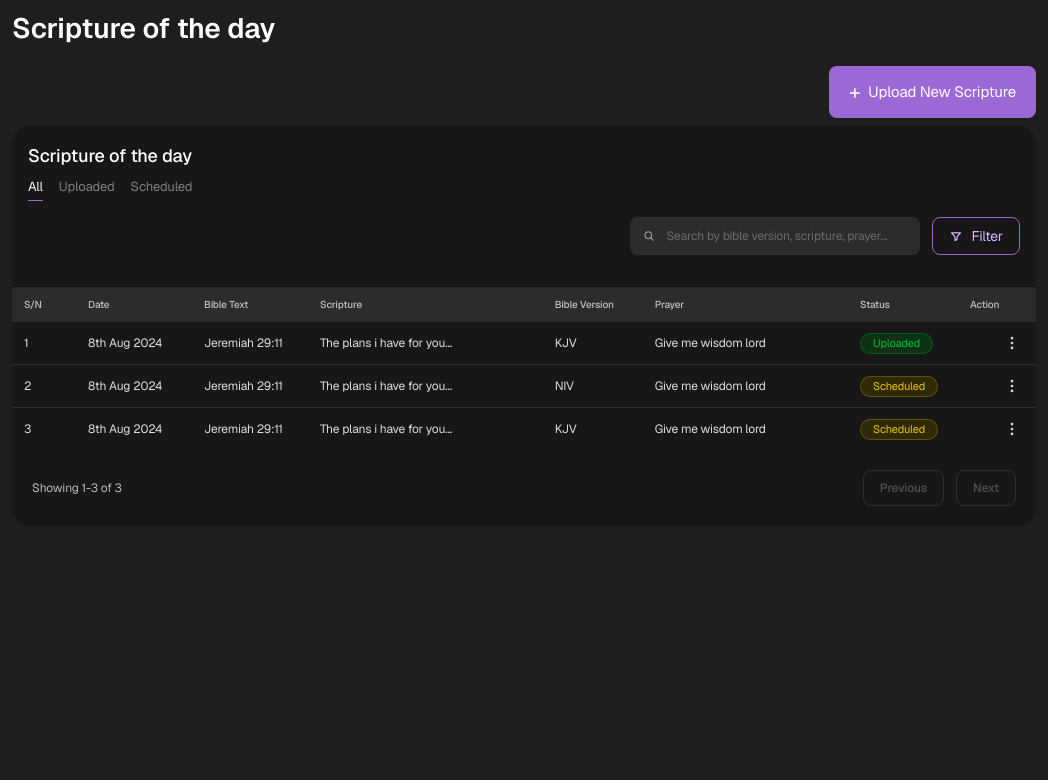
Test: ScriptureOfTheDayPage › opens and closes the scripture action menu without fetching
The width and height of the screenshot is (1048, 780).
Click the button named "Open actions for scripture 1": {"x": 1012, "y": 343} [1000, 331, 1024, 355]
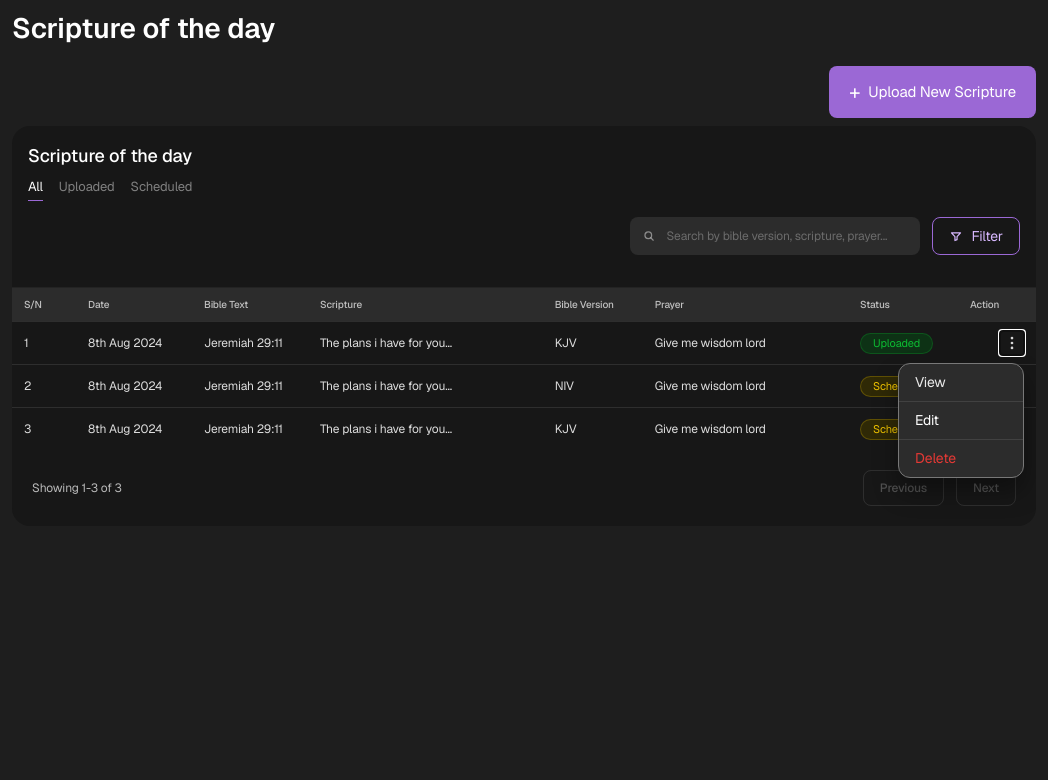
Expected: the button "View" is shown, [899, 364, 1023, 402]
Click the button named "Close scripture action menu": {"x": 524, "y": 396} [12, 12, 1036, 779]
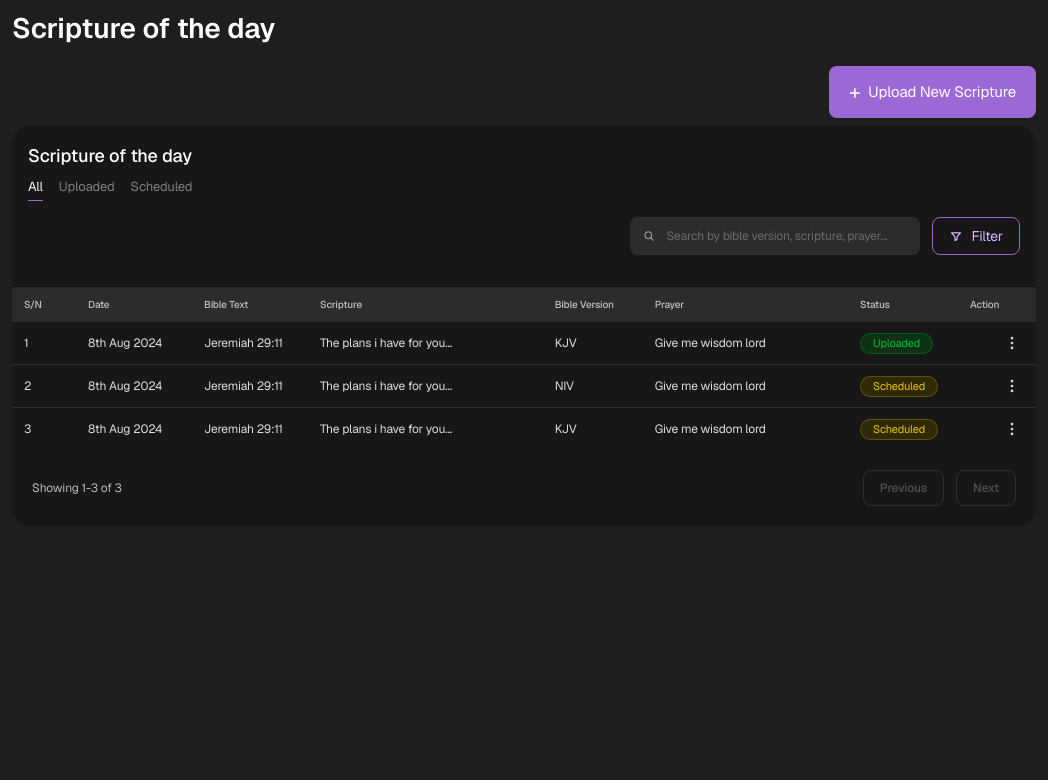
Expected: the button "View" is gone
